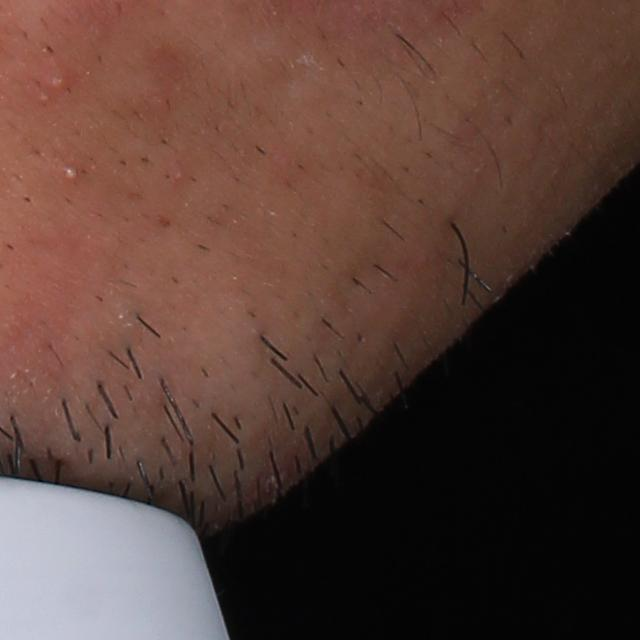pustule: (41, 68, 71, 95), (58, 157, 86, 185)
